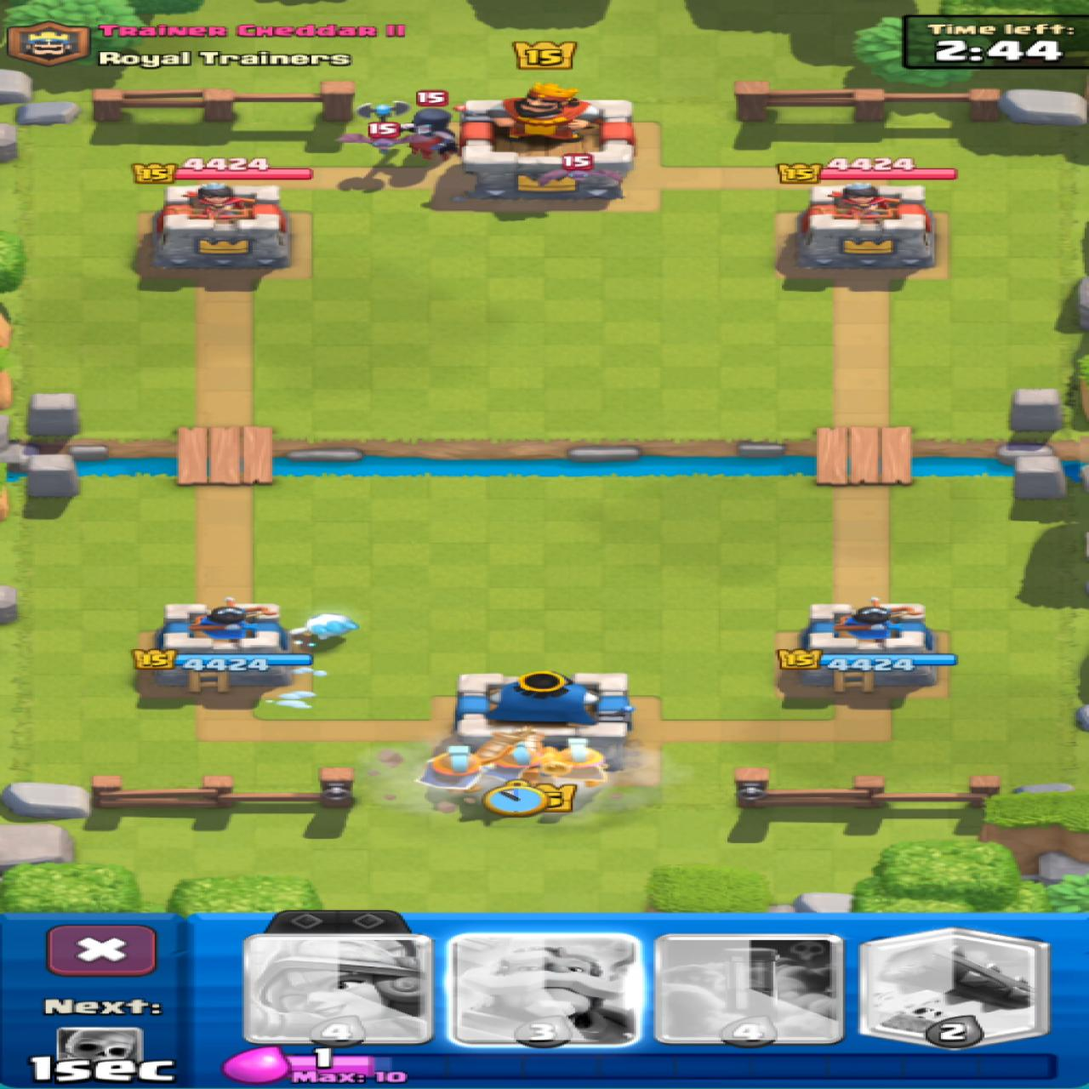Enemy-Bat: (540, 154, 621, 185), (338, 122, 405, 151)
Enemy-KingTower: (464, 84, 634, 204)
Enemy-NightWitch: (342, 92, 457, 160)
Enemy-PrincessTower: (795, 183, 934, 278), (152, 185, 290, 269)
